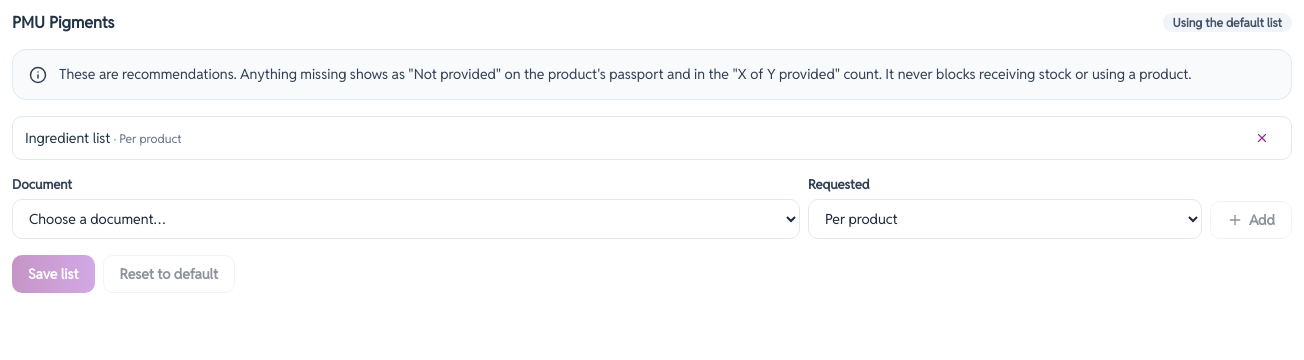
Scenario: ChecklistEditor › adds an item and saves the list
Expected: the text "Using the default list" is shown, x1=1162 y1=13 x2=1292 y2=32
Step 1. Select "Certificate of Analysis (COA)" in the dropdown named "Document to request" → (406, 219), box x1=12 y1=199 x2=800 y2=239
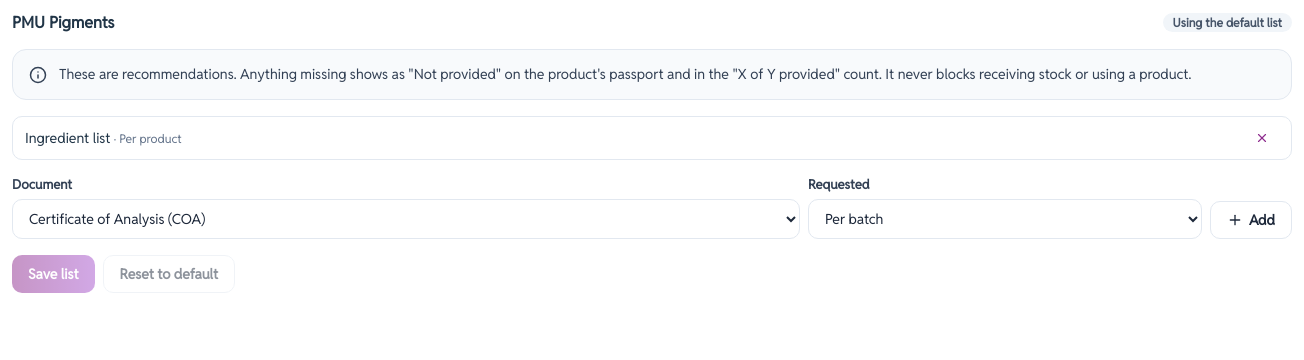
Now the dropdown named "Requested per" shows "Per batch", box x1=808 y1=199 x2=1202 y2=239
Step 2. Click the button "Add" → (1251, 220), box x1=1210 y1=201 x2=1292 y2=239
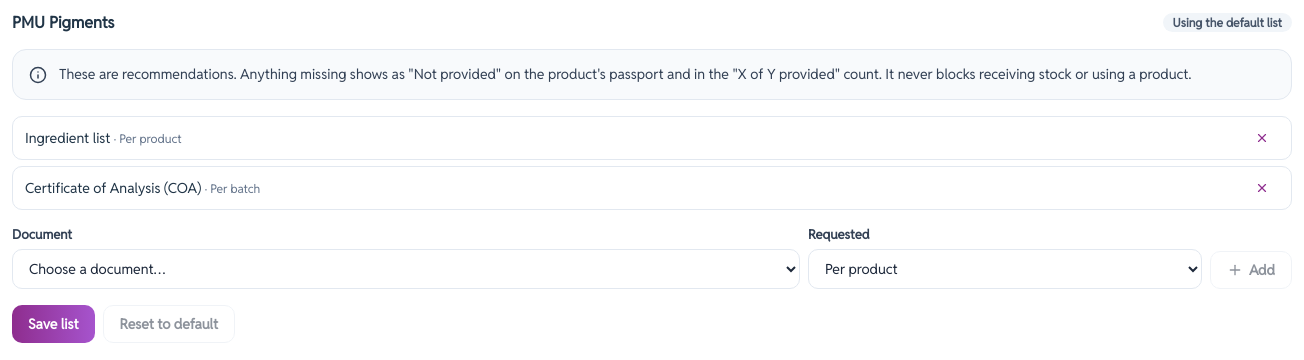
Step 3. Click the button "Save list" → (53, 324), box x1=12 y1=305 x2=94 y2=343
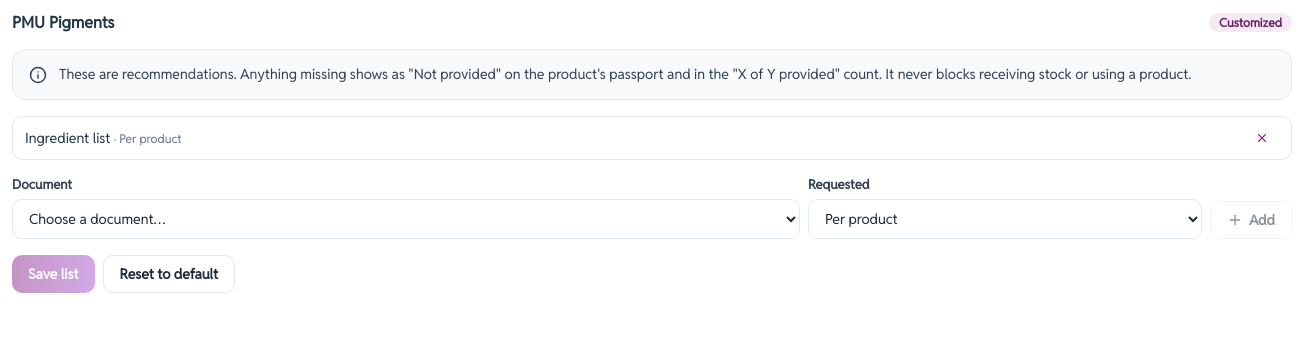
Now the text "Customized" is shown, box x1=1209 y1=13 x2=1292 y2=32
